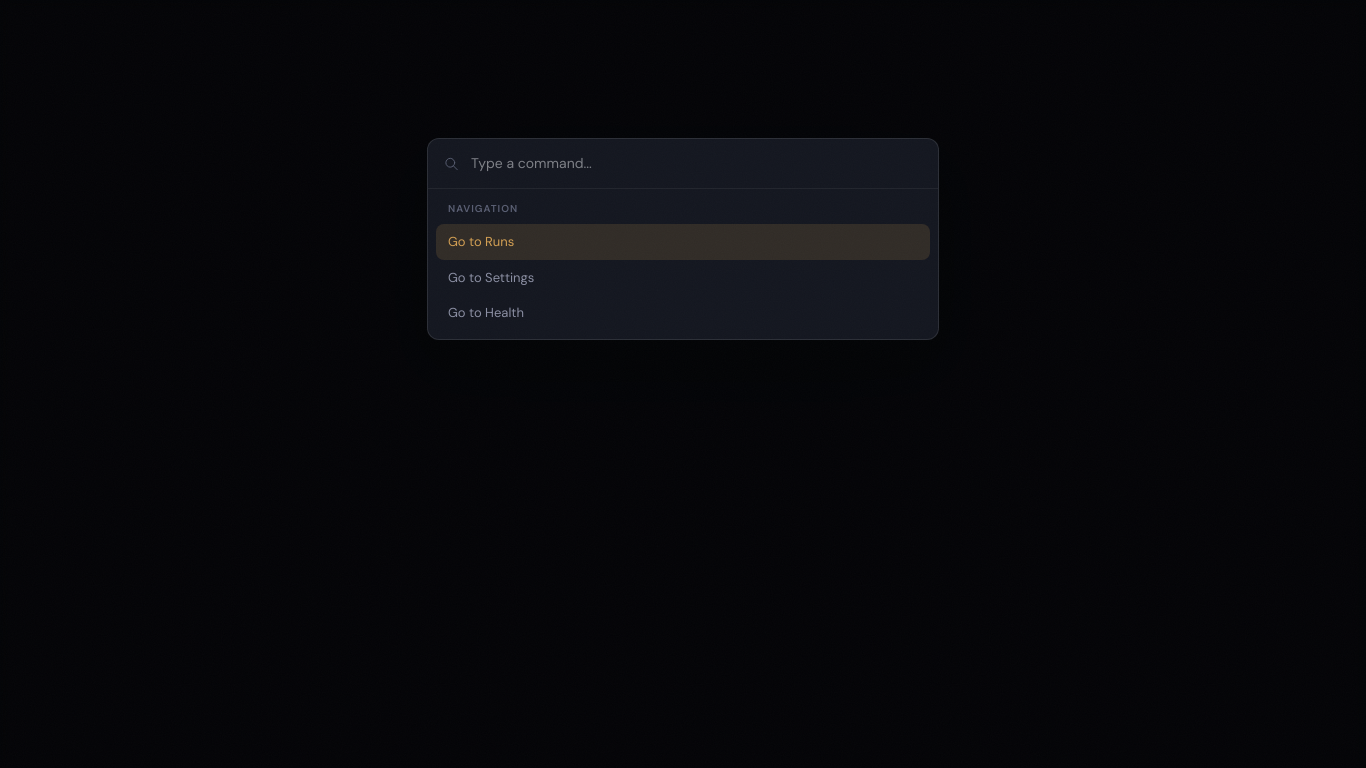
Test: CommandPalette › filters actions by typed query
The width and height of the screenshot is (1366, 768).
Expected: the text "Go to Runs" is shown, [448,232,514,252]
Type "settings" into the field with placeholder "Type a command...".
click(697, 164); type("settings")  # box [471,153,922,174]
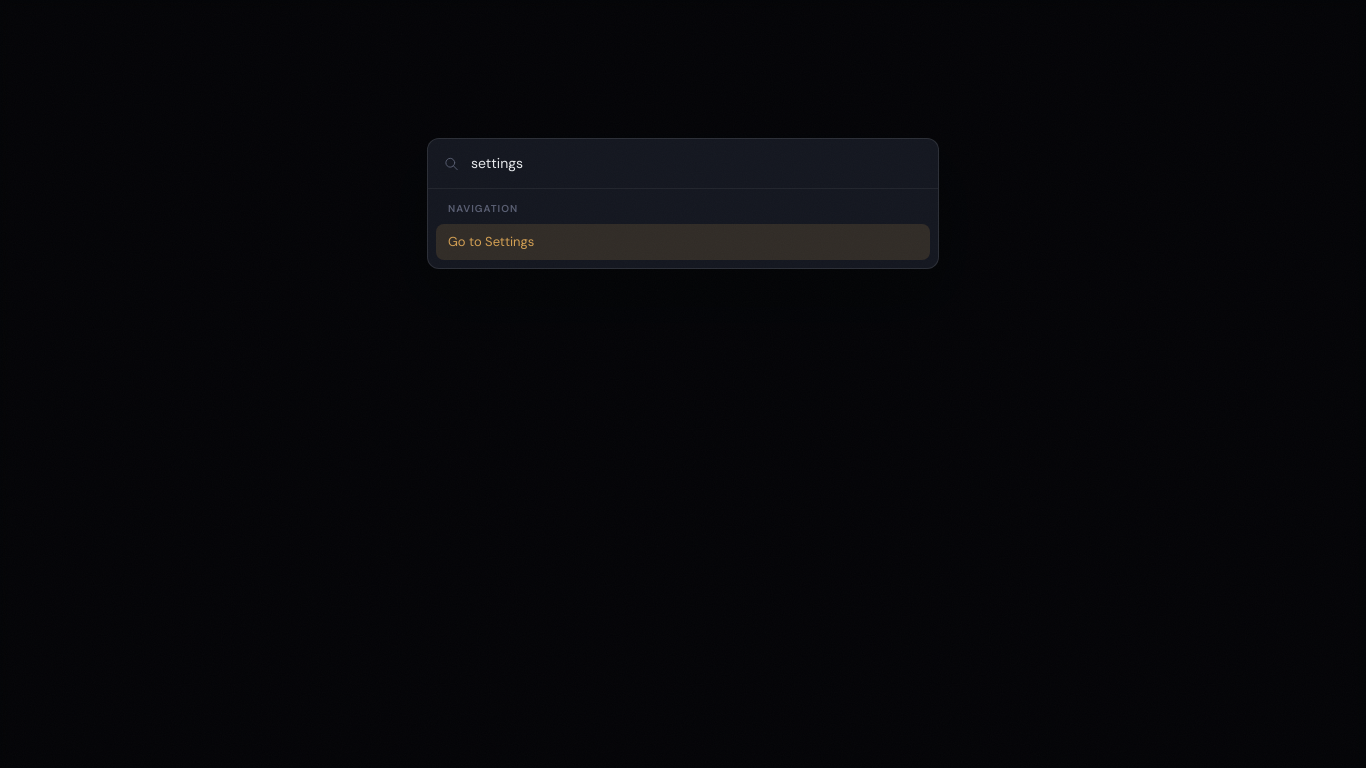
Expected: the text "Go to Settings" is shown, [448,232,534,252]
Result: the button "Go to Runs" is gone
Result: the button "Go to Health" is gone
